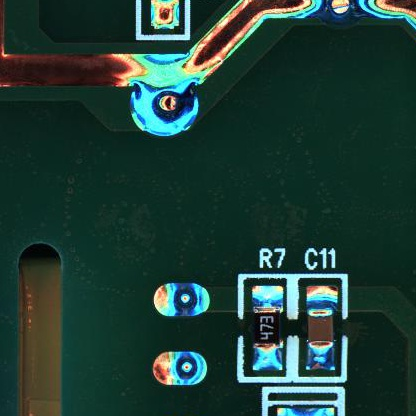spot: (130, 79, 199, 138), (152, 351, 210, 386), (153, 282, 210, 317)
